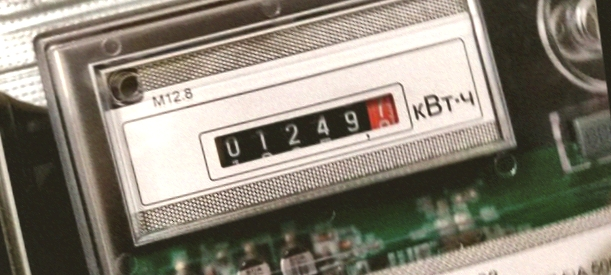0: (219, 131, 241, 159)
1: (251, 126, 269, 153)
2: (280, 120, 303, 148)
4: (311, 110, 332, 139)
7: (370, 95, 388, 120)
9: (340, 106, 361, 133)
screen: (188, 82, 429, 186)
